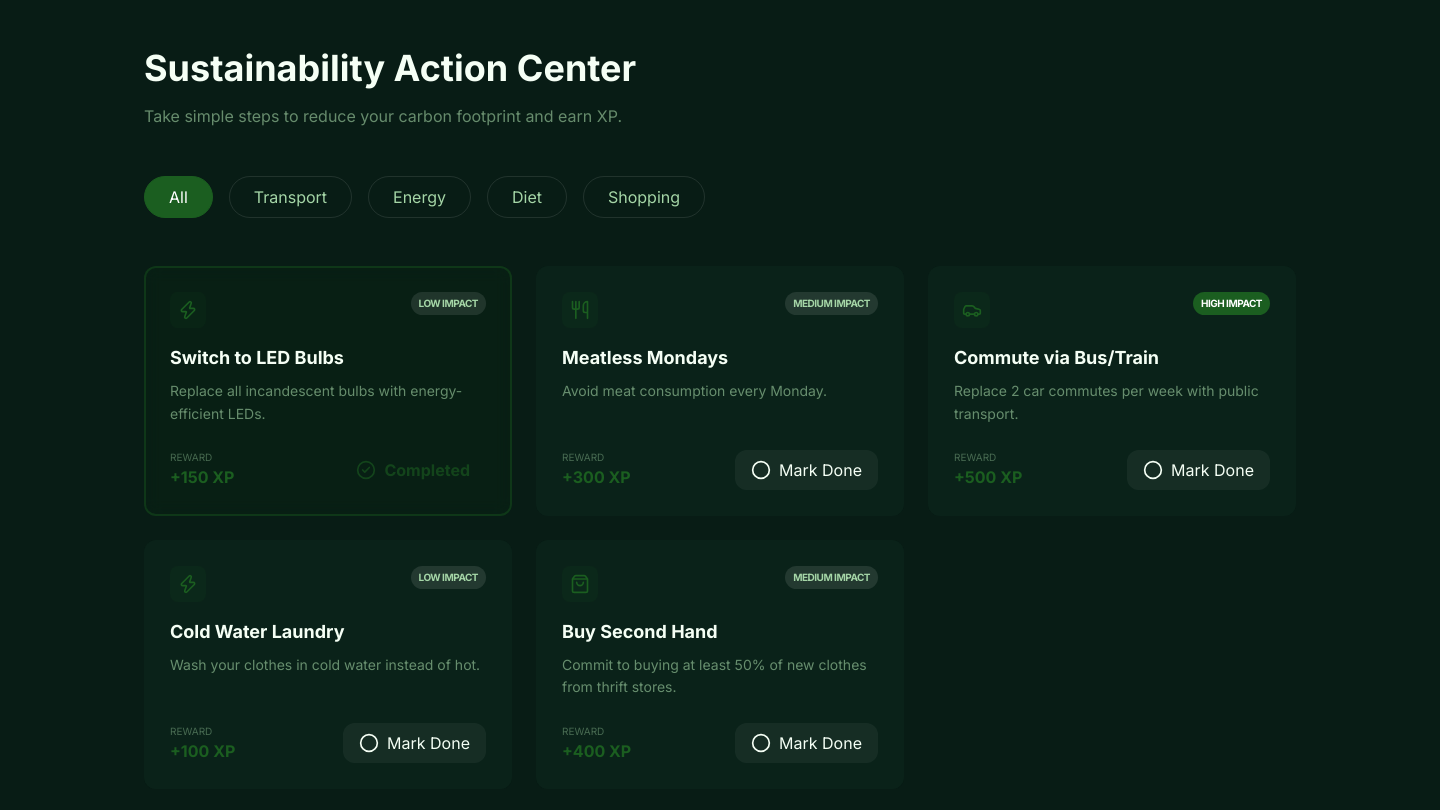
Test: Action Center Component › filters actions by category
What coordinates should you click on to do the following:
click the button "diet"
I would click on:
 (527, 197)
Its box is [487,176,567,218].
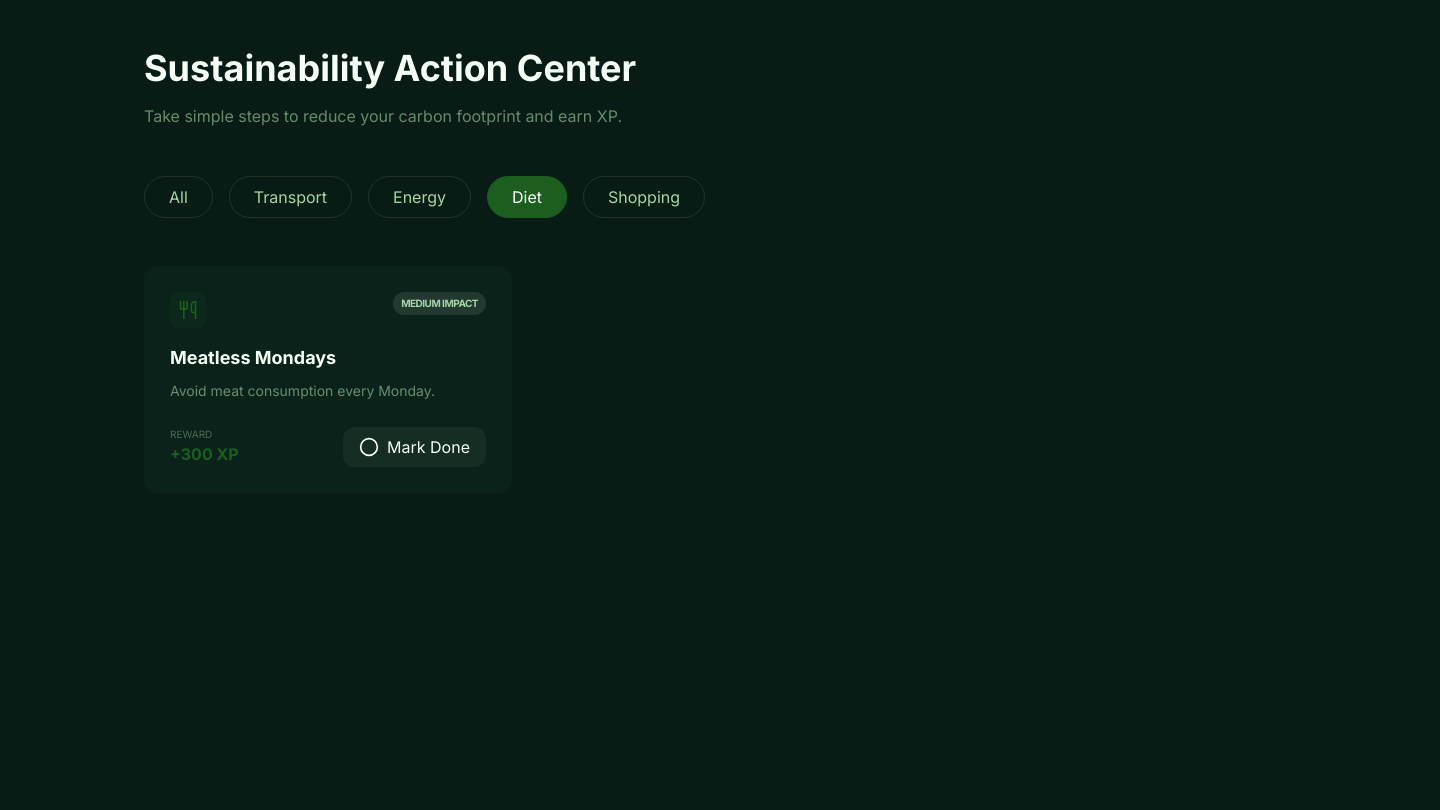
Expected: the heading "Meatless Mondays" is shown, [170,347,336,368]
Result: the heading "Switch to LED Bulbs" is gone
